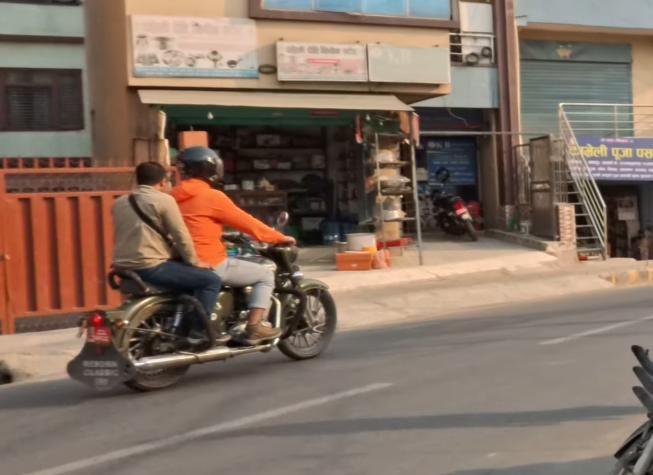bike: (65, 212, 344, 391)
